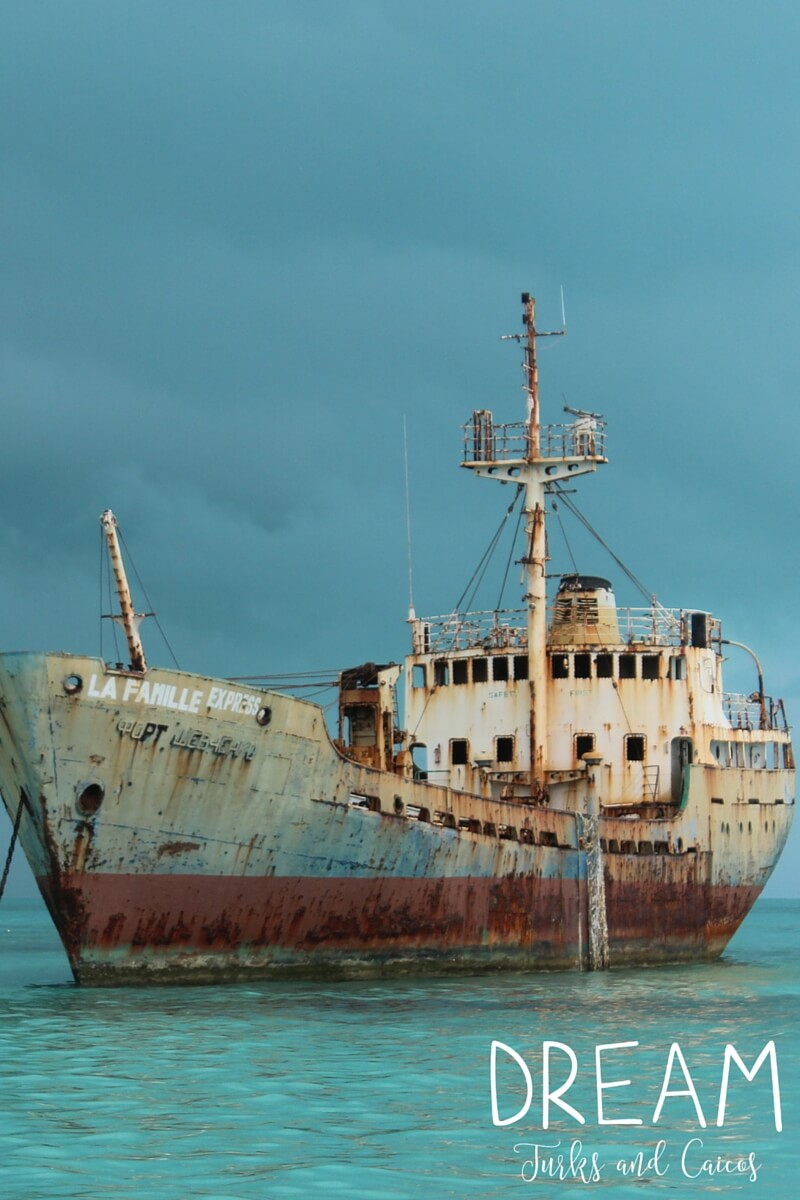rust: (100, 908, 487, 948), (610, 886, 734, 941), (449, 795, 556, 846), (143, 829, 212, 862)
